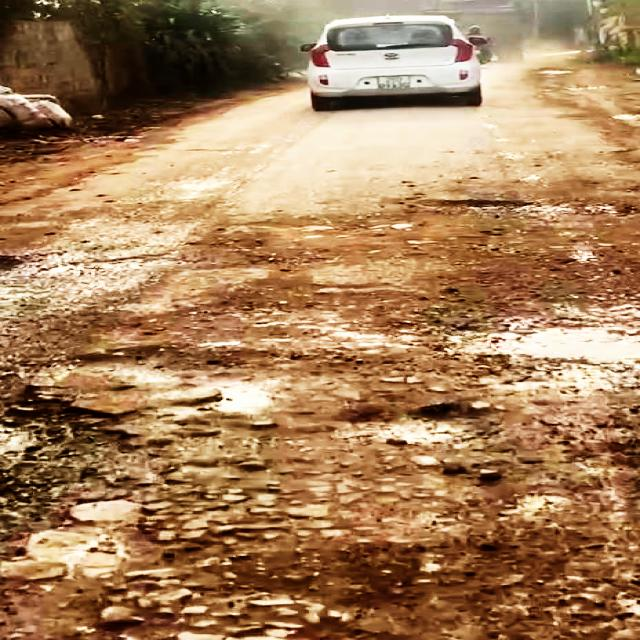pothole: (0, 366, 161, 551), (433, 300, 640, 393), (430, 190, 638, 220)
